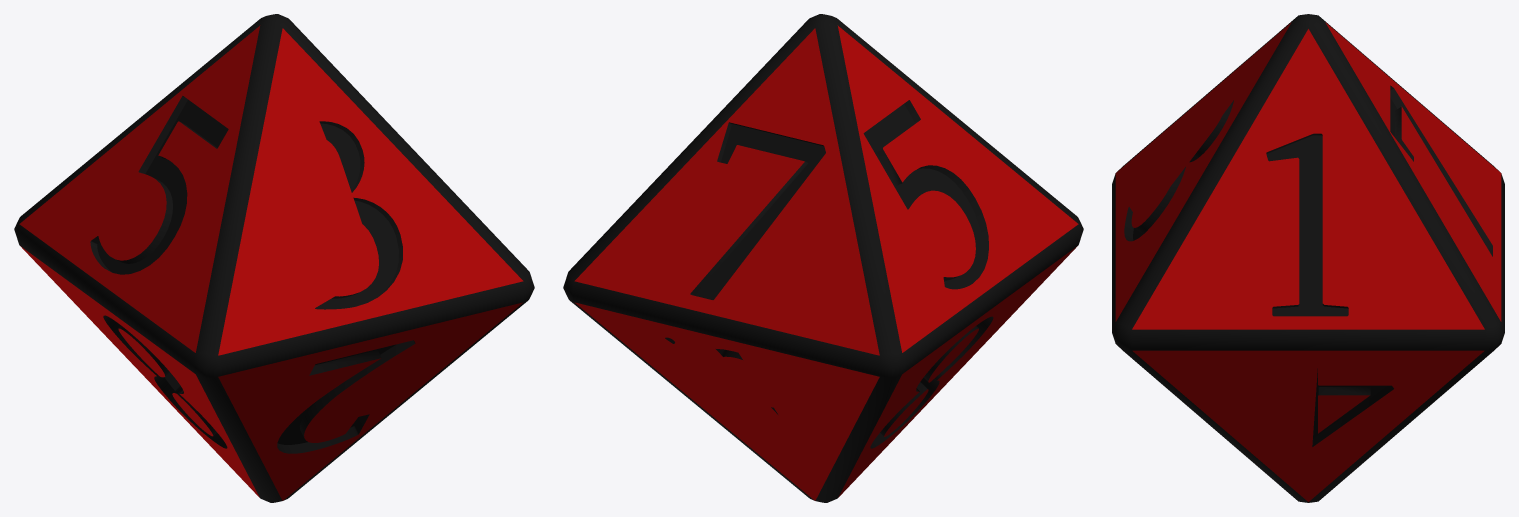
The model's file is Dice_D8.fbx.
3 renders of one model, left to right at view 1: azimuth 30°, elevation 25°; view 2: azimuth 150°, elevation 25°; view 3: azimuth 270°, elevation 25°, orthographic.
Parts seen in each view (by area): view 1: D8; view 2: D8; view 3: D8.
Boxes of the visible parts, x1,y1,x2,y2 form: D8: [14, 14, 534, 502]; D8: [563, 14, 1083, 502]; D8: [1112, 14, 1504, 502].
Bounding box in the file's own units: 276 × 379 × 276.
